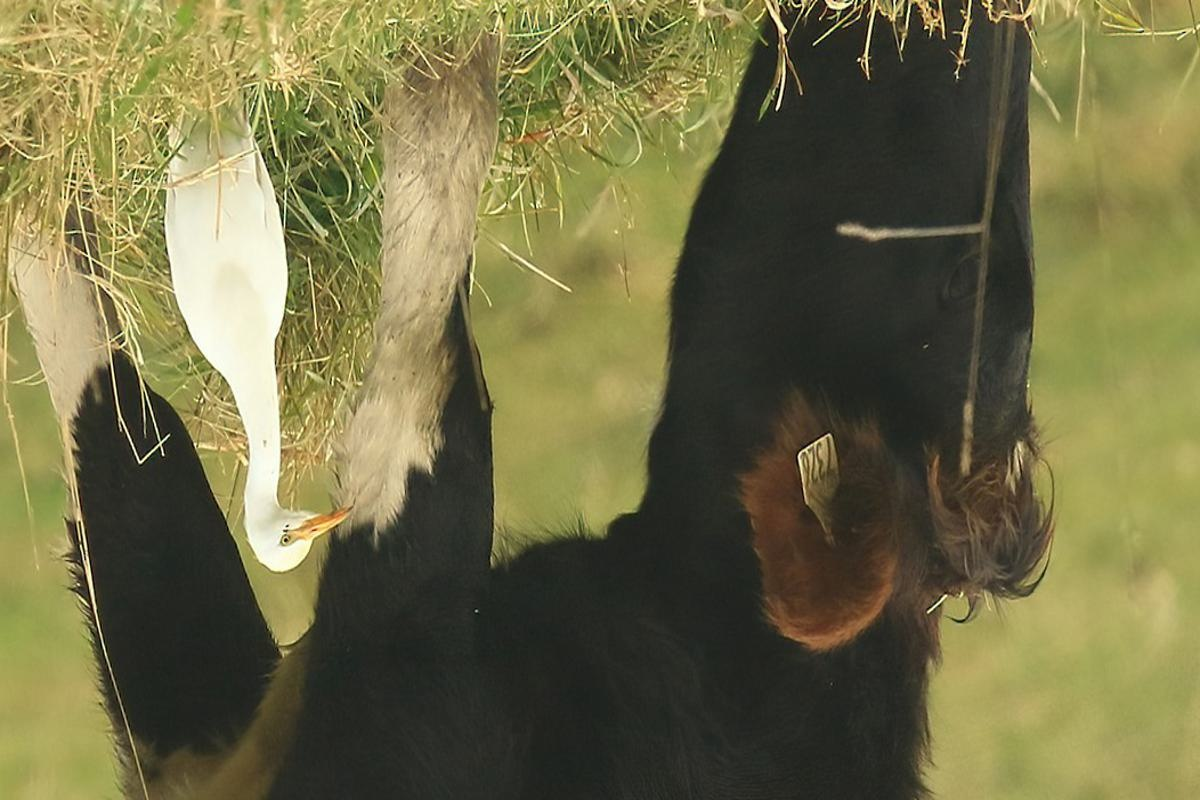egret: (128, 99, 352, 573)
